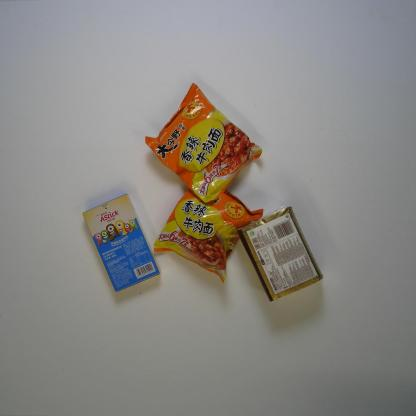Dessert: (80, 191, 160, 296)
Instant Noodles: (143, 82, 264, 207), (152, 184, 265, 284)
Tissue: (236, 203, 328, 305)
